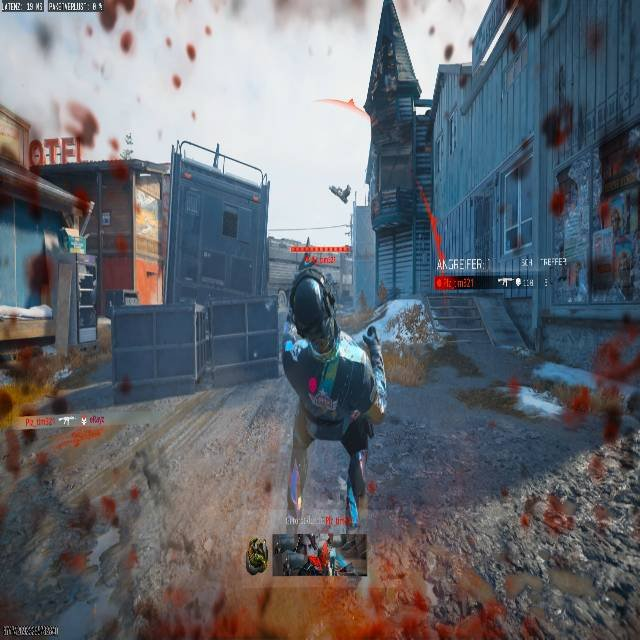head: (290, 273, 336, 350)
player: (280, 269, 383, 568)
